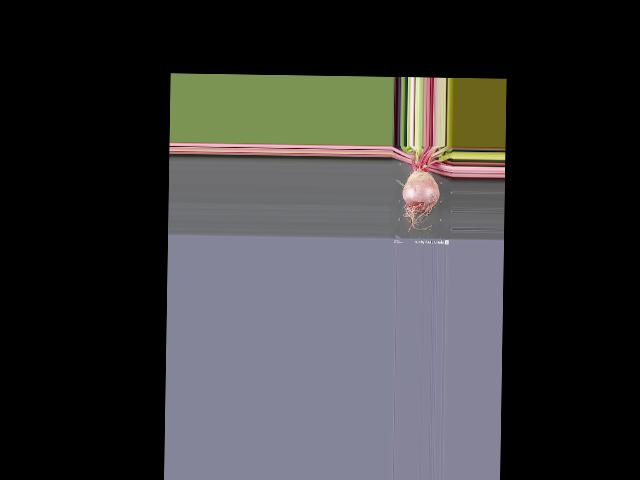beet: (401, 145, 452, 234)
